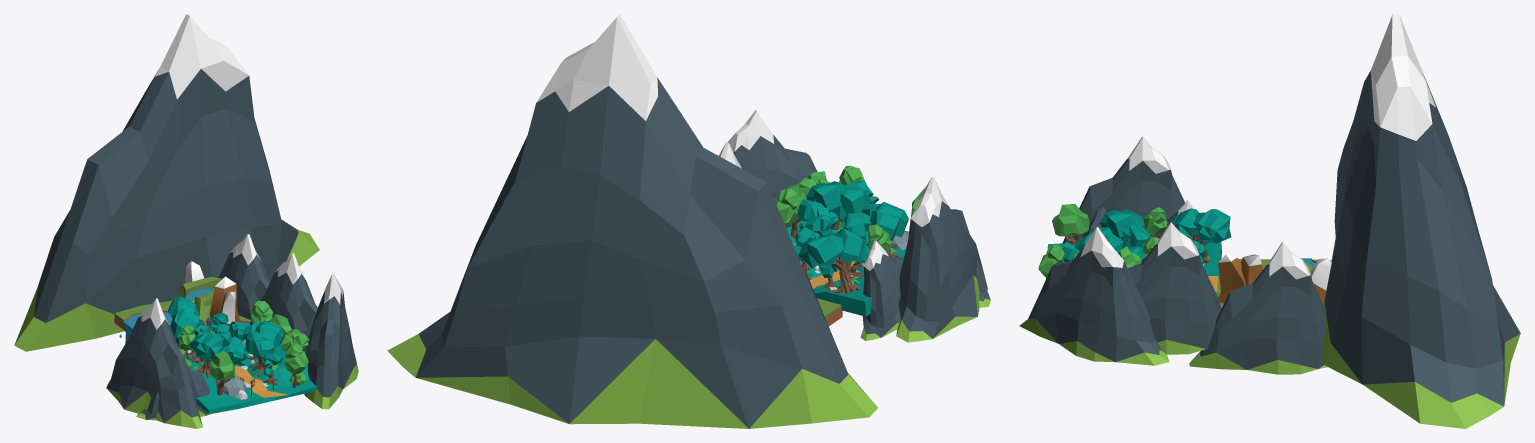
Rendered from Forest.glb.
3 views of the same model, side by side, from view 1: azimuth 30°, elevation 25°; view 2: azimuth 150°, elevation 25°; view 3: azimuth 270°, elevation 25° (orthographic). The views are drawn at different scales.
Parts seen in each view (by area): view 1: Mountain_Cube-Mesh006, Mountain_Cube-Mesh002, Mountain_Cube-Mesh006_2, Mountain_Cube-Mesh004, Mountain_Cube-Mesh006_1, group2009401224, Mountain_Cube-Mesh003, Mountain_Cube-Mesh005, Box002, Mountain_Cube-Mesh002_2, Box001, group403363102 (+19 smaller); view 2: Mountain_Cube-Mesh006, Mountain_Cube-Mesh006_2, Mountain_Cube-Mesh002, Mountain_Cube-Mesh006_1, Mountain_Cube-Mesh004, Mountain_Cube-Mesh001, group2009401224, group624080166, group1489245576, Mountain_Cube-Mesh002_1, Mountain_Cube-Mesh004_1, Mountain_Cube-Mesh002_2 (+4 smaller); view 3: Mountain_Cube-Mesh006, Mountain_Cube-Mesh004, Mountain_Cube-Mesh005, Mountain_Cube-Mesh003, Mountain_Cube-Mesh006_1, Mountain_Cube-Mesh006_2, Mountain_Cube-Mesh002, Mountain_Cube-Mesh004_2, Mountain_Cube-Mesh005_2, group403363102, group624080166, Pyramid003 (+12 smaller).
Boxes of the visible parts, bbox=[...] form: Mountain_Cube-Mesh006: bbox=[34, 69, 298, 322]; Mountain_Cube-Mesh002: bbox=[106, 316, 197, 422]; Mountain_Cube-Mesh006_2: bbox=[14, 230, 319, 351]; Mountain_Cube-Mesh004: bbox=[305, 291, 356, 397]; Mountain_Cube-Mesh006_1: bbox=[151, 14, 248, 99]; group2009401224: bbox=[182, 324, 317, 414]; Mountain_Cube-Mesh003: bbox=[250, 271, 317, 353]; Mountain_Cube-Mesh005: bbox=[218, 251, 269, 319]; Box002: bbox=[169, 277, 221, 325]; Mountain_Cube-Mesh002_2: bbox=[106, 379, 202, 428]; Box001: bbox=[114, 300, 250, 343]; group403363102: bbox=[209, 351, 235, 395]; Mountain_Cube-Mesh006: bbox=[415, 77, 848, 428]; Mountain_Cube-Mesh006_2: bbox=[387, 334, 877, 428]; Mountain_Cube-Mesh002: bbox=[899, 201, 987, 338]; Mountain_Cube-Mesh006_1: bbox=[536, 14, 657, 120]; Mountain_Cube-Mesh004: bbox=[733, 135, 817, 198]; Mountain_Cube-Mesh001: bbox=[862, 252, 903, 337]; group2009401224: bbox=[787, 217, 908, 316]; group624080166: bbox=[798, 234, 843, 268]; group1489245576: bbox=[869, 202, 908, 240]; Mountain_Cube-Mesh002_1: bbox=[910, 177, 948, 226]; Mountain_Cube-Mesh004_1: bbox=[728, 110, 774, 152]; Mountain_Cube-Mesh002_2: bbox=[896, 275, 987, 342]; Mountain_Cube-Mesh006: bbox=[1324, 70, 1520, 406]; Mountain_Cube-Mesh004: bbox=[1028, 246, 1162, 361]; Mountain_Cube-Mesh005: bbox=[1200, 264, 1325, 369]; Mountain_Cube-Mesh003: bbox=[1128, 244, 1221, 348]; Mountain_Cube-Mesh006_1: bbox=[1371, 14, 1435, 140]; Mountain_Cube-Mesh006_2: bbox=[1321, 302, 1520, 428]; Mountain_Cube-Mesh002: bbox=[1062, 158, 1184, 243]; Mountain_Cube-Mesh004_2: bbox=[1019, 318, 1169, 365]; Mountain_Cube-Mesh005_2: bbox=[1189, 351, 1327, 374]; group403363102: bbox=[1052, 204, 1089, 245]; group624080166: bbox=[1193, 209, 1231, 243]; Pyramid003: bbox=[1218, 254, 1245, 303].
Size of the model in its own units: 47.96 by 40.26 by 52.45.
